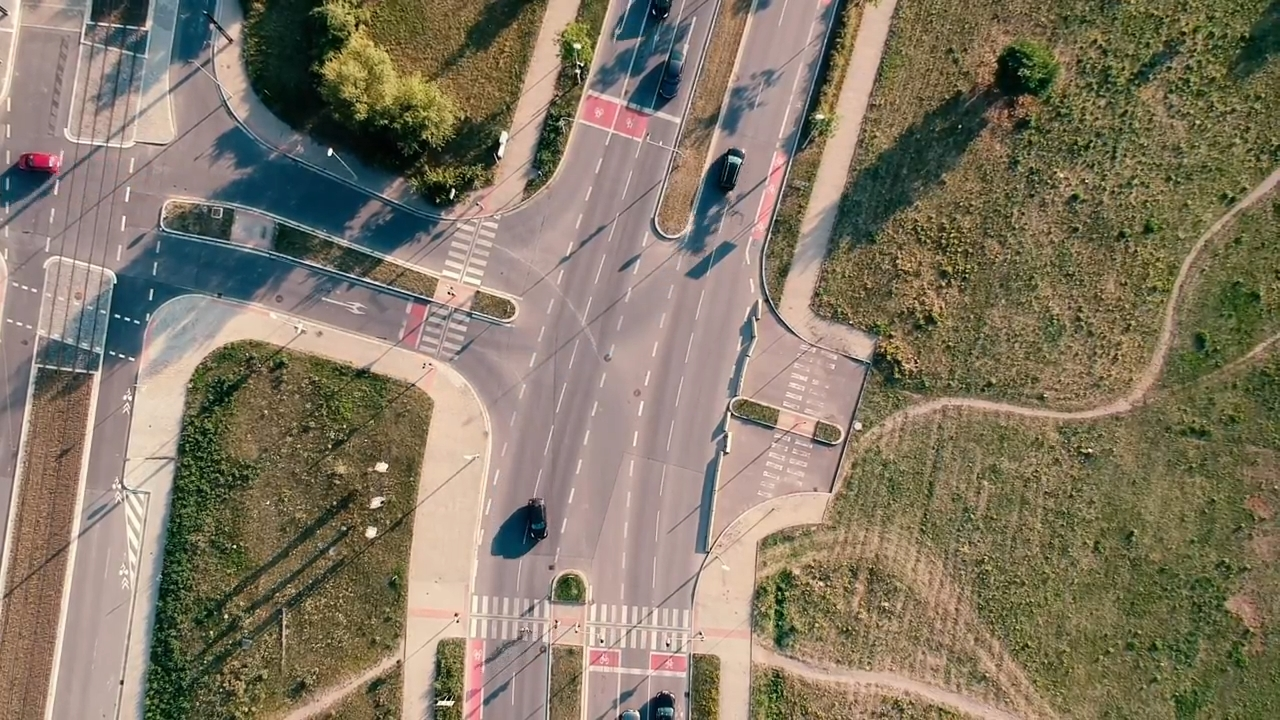car: (658, 42, 691, 100), (718, 145, 745, 191), (16, 150, 61, 174), (527, 495, 549, 542), (655, 691, 675, 720), (649, 1, 671, 19), (618, 707, 639, 720)
